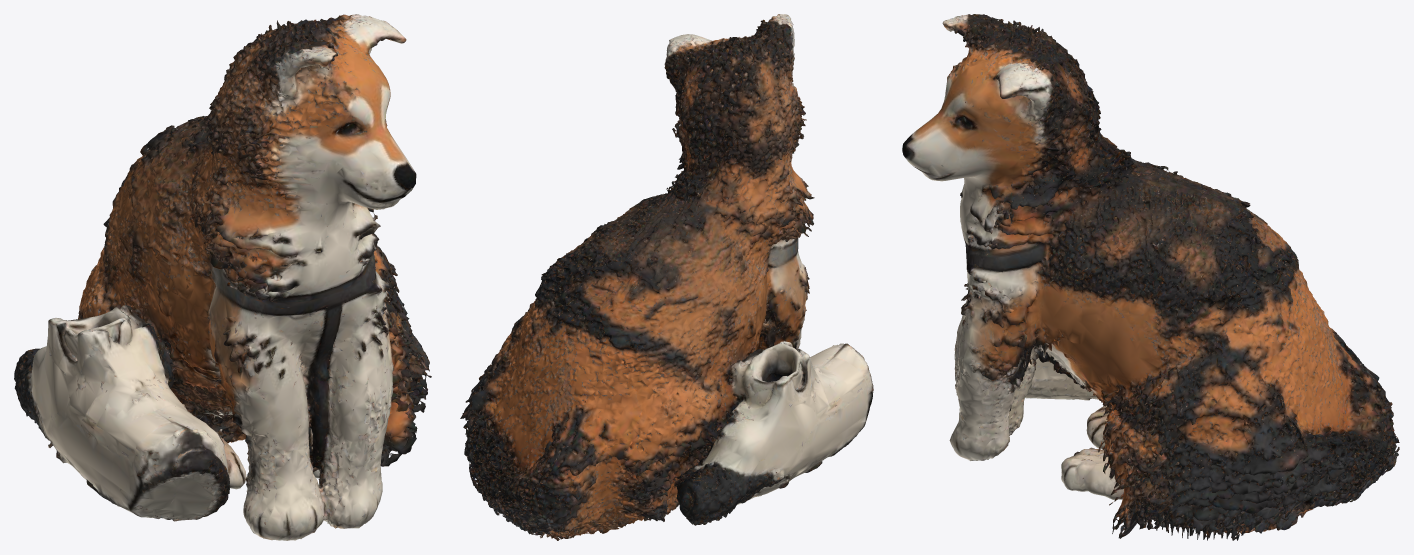
File: dog.glb
The picture shows the model from 3 angles, left to right: view 1: azimuth 30°, elevation 25°; view 2: azimuth 150°, elevation 25°; view 3: azimuth 270°, elevation 25°; orthographic projection. The views are drawn at different scales.
Size of the model in its own units: 1.51 by 2 by 1.98.
1 material, 1 textured.
